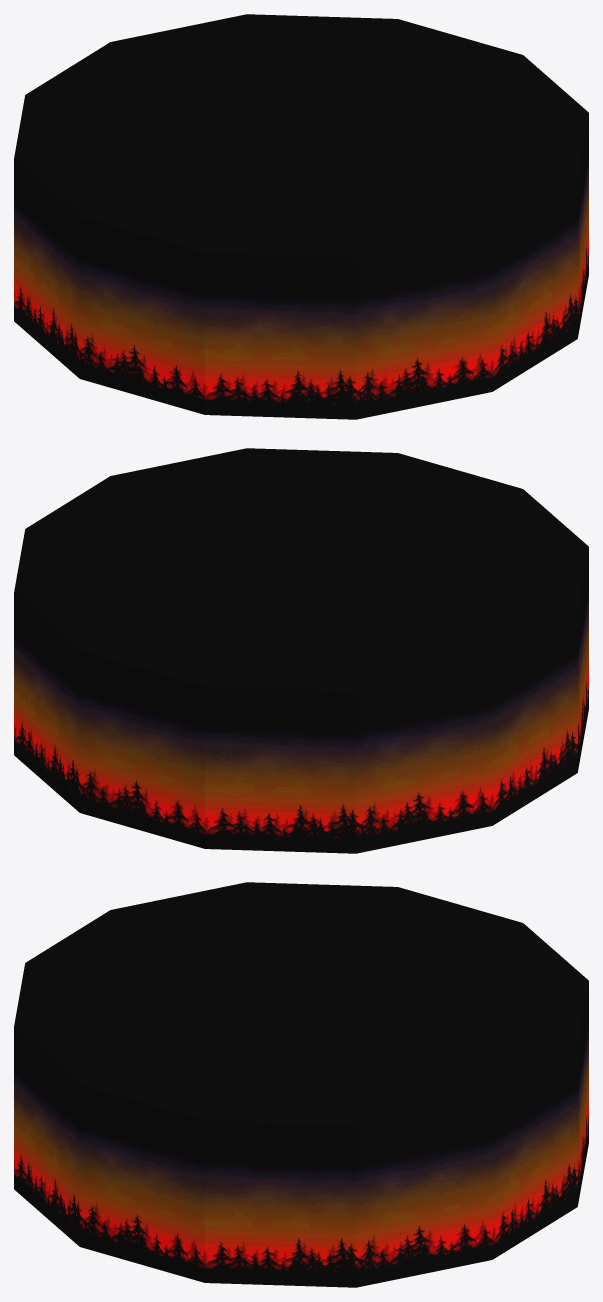
File: mini_stage2_V.glb
The picture shows the model from 3 angles, top to bottom: view 1: azimuth 30°, elevation 25°; view 2: azimuth 150°, elevation 25°; view 3: azimuth 270°, elevation 25°; orthographic projection.
Parts seen in each view (by area): view 1: mini_stage2_V; view 2: mini_stage2_V; view 3: mini_stage2_V.
Part boxes in pixels (<box>): mini_stage2_V: <box>14,14,588,419</box>; mini_stage2_V: <box>14,448,588,853</box>; mini_stage2_V: <box>14,882,588,1287</box>.
Size of the model in its own units: 307 by 174 by 307.
1 material, 1 textured.
